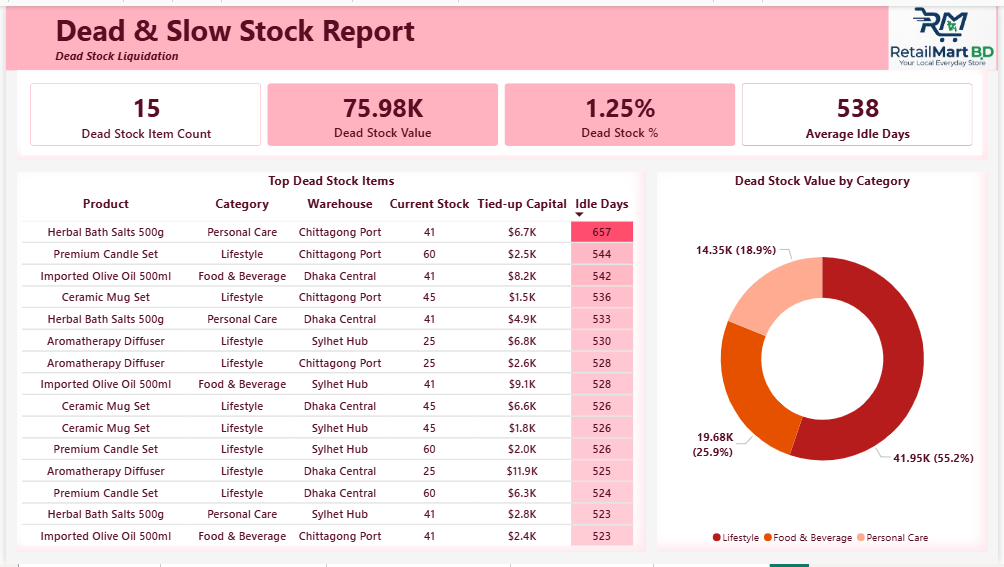

This screenshot's page, from the dashboard's own definition file:
{"tool":"powerbi","page":{"name":"Dead & Slow Stock Report","canvas":[1280,720],"ordinal":2},"visuals":[{"type":"textbox","box":[0,0,1280,82.6],"z":0},{"type":"image","box":[1137.1,0,142.9,82.6],"z":1000},{"type":"tableEx","title":"Top Dead Stock Items","fields":{"Values":["dim_product.product_name","dim_product.category","dim_warehouse.warehouse_name","Sum(vw_reorder_analysis.total_current_stock)","Sum(vw_stock_aging.tied_up_capital)","Sum(vw_stock_aging.days_since_last_sale)"]},"box":[14.2,214,810.7,490.4],"z":2000},{"type":"donutChart","title":"Dead Stock Value by Category","fields":{"Y":["_Measures.Dead Stock Capital"],"Category":["vw_stock_aging.category"]},"box":[840.5,214,426.6,490.4],"z":3000},{"type":"cardVisual","fields":{"Data":["_Measures.Dead Stock Item Count","_Measures.Dead Stock Value","_Measures.Dead Stock %","_Measures.Average Idle Days"]},"box":[14.3,82.6,1253,115.9],"z":4000}]}

Visuals, with their boxes in screenshot pixels (x1, y1, x2, y2), scaled from the page's 1280x720 canvas onto the 1004x567 screenshot:
textbox: BBox(0, 0, 1003, 65)
image: BBox(892, 0, 1003, 65)
"Top Dead Stock Items" tableEx: BBox(11, 169, 647, 555)
"Dead Stock Value by Category" donutChart: BBox(659, 169, 994, 555)
cardVisual - _Measures.Dead Stock Item Count x _Measures.Dead Stock Value: BBox(11, 65, 994, 156)
